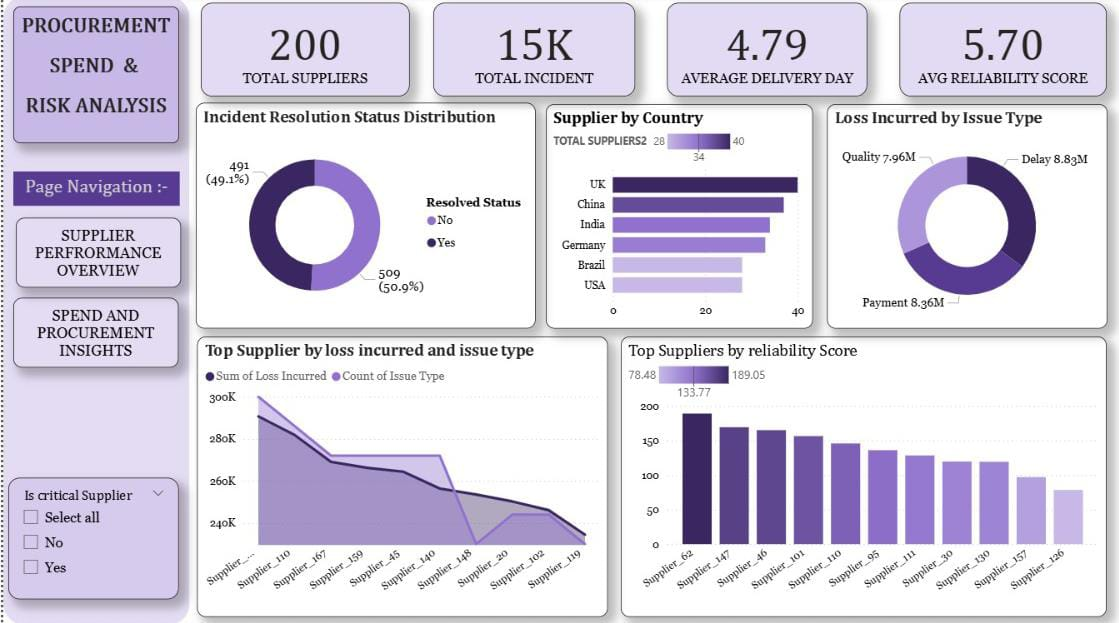

The dashboard page shown, as its layout file describes it:
{"tool":"powerbi","page":{"name":"SUUPPLIER PERFROMANCE OVERVIEW ","canvas":[1280,720],"ordinal":0},"visuals":[{"type":"shape","box":[0,0,213.3,720],"z":0},{"type":"textbox","box":[11.7,11.7,190,156.7],"z":1000},{"type":"card","fields":{"Values":["Supplier_Spend_Data (2).TOTAL SUPPLIERS2"]},"box":[225.7,7.6,239,107.1],"z":2000},{"type":"slicer","fields":{"Values":["Supplier_Spend_Data (2).Is critical Supplier"]},"box":[5.7,550.8,195.1,139.6],"z":3000},{"type":"card","fields":{"Values":["Sum(Supplier_Spend_Data (2).Incident Count)"]},"box":[493.4,7.6,231.4,107.1],"z":4000},{"type":"card","fields":{"Values":["Avg(Supplier_Spend_Data (2).Average delivery time)"]},"box":[761.1,7.6,229.5,107.1],"z":5000},{"type":"card","fields":{"Values":["Avg(Supplier_Spend_Data (2).Reliability score)"]},"box":[1026.9,7.6,237.1,107.1],"z":6000},{"type":"donutChart","title":" Loss Incurred by Issue Type","fields":{"Category":["Supplier_Incident_Log (2).Issue Type"],"Y":["Sum(Supplier_Incident_Log (2).Loss Incurred)"]},"box":[943.3,122.7,321,257.4],"z":7000},{"type":"donutChart","title":"Incident Resolution Status Distribution","fields":{"Category":["Supplier_Incident_Log (2).Resolved Status"],"Y":["CountNonNull(Supplier_Incident_Log (2).Incident Date)"]},"box":[221.1,121.1,389.2,258.9],"z":8000},{"type":"clusteredBarChart","title":" Supplier by Country","fields":{"Category":["Supplier_Spend_Data (2).Supplier country"],"Y":["Supplier_Spend_Data (2).TOTAL SUPPLIERS2"]},"box":[622.3,122.7,305.9,257.4],"z":9000},{"type":"columnChart","title":"Top Suppliers by reliability Score","fields":{"Category":["Supplier_Spend_Data (2).Supplier Name"],"Y":["Sum(Supplier_Spend_Data (2).Reliability score)"]},"box":[707.6,390.1,556.5,321.3],"z":10000},{"type":"lineChart","title":"Top Supplier by loss incurred and issue type","fields":{"Y":["Sum(Supplier_Incident_Log (2).Loss Incurred)"],"Y2":["CountNonNull(Supplier_Incident_Log.Issue Type)"],"Category":["Supplier_Incident_Log (2).Supplier Name"]},"box":[221.8,390.1,470.4,321.3],"z":11000},{"type":"textbox","box":[12.1,199.9,190.8,39.4],"z":12000},{"type":"actionButton","box":[13.6,252.9,189.3,80.3],"z":13000},{"type":"actionButton","box":[12.1,345.2,189.3,80.3],"z":14000}]}

Visuals, with their boxes in screenshot pixels (x1, y1, x2, y2), scaled from the page's 1280x720 canvas onto the 1119x623 screenshot:
shape: {"x1": 0, "y1": 0, "x2": 186, "y2": 622}
textbox: {"x1": 10, "y1": 10, "x2": 176, "y2": 146}
card - Supplier_Spend_Data (2).TOTAL SUPPLIERS2: {"x1": 197, "y1": 7, "x2": 406, "y2": 99}
slicer - Supplier_Spend_Data (2).Is critical Supplier: {"x1": 5, "y1": 477, "x2": 176, "y2": 597}
card - Sum(Supplier_Spend_Data (2).Incident Count): {"x1": 431, "y1": 7, "x2": 634, "y2": 99}
card - Avg(Supplier_Spend_Data (2).Average delivery time): {"x1": 665, "y1": 7, "x2": 866, "y2": 99}
card - Avg(Supplier_Spend_Data (2).Reliability score): {"x1": 898, "y1": 7, "x2": 1105, "y2": 99}
" Loss Incurred by Issue Type" donutChart: {"x1": 825, "y1": 106, "x2": 1105, "y2": 329}
"Incident Resolution Status Distribution" donutChart: {"x1": 193, "y1": 105, "x2": 534, "y2": 329}
" Supplier by Country" clusteredBarChart: {"x1": 544, "y1": 106, "x2": 811, "y2": 329}
"Top Suppliers by reliability Score" columnChart: {"x1": 619, "y1": 338, "x2": 1105, "y2": 616}
"Top Supplier by loss incurred and issue type" lineChart: {"x1": 194, "y1": 338, "x2": 605, "y2": 616}
textbox: {"x1": 11, "y1": 173, "x2": 177, "y2": 207}
actionButton: {"x1": 12, "y1": 219, "x2": 177, "y2": 288}
actionButton: {"x1": 11, "y1": 299, "x2": 176, "y2": 368}
